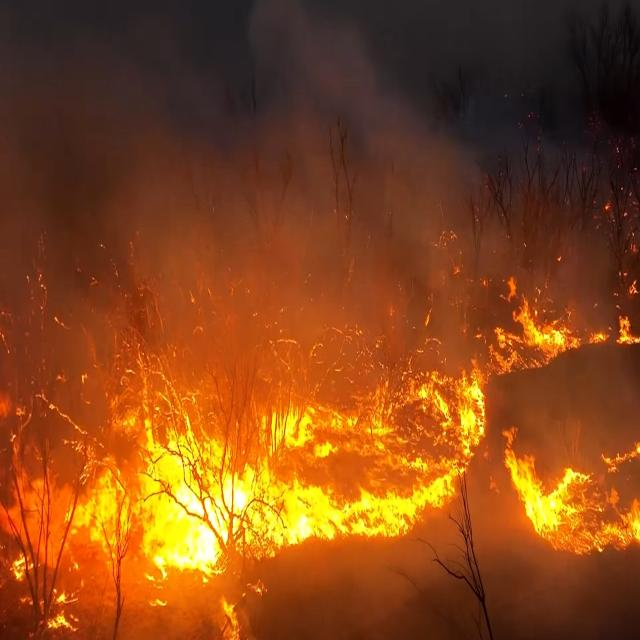fire: (123, 383, 500, 569), (516, 407, 640, 586), (499, 240, 640, 374)
smoke: (0, 0, 454, 327)
